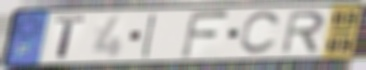4: (90, 13, 127, 60)
C: (237, 10, 285, 56)
F: (178, 10, 232, 60)
I: (139, 12, 160, 60)
R: (280, 9, 328, 56)
T: (54, 15, 88, 61)
